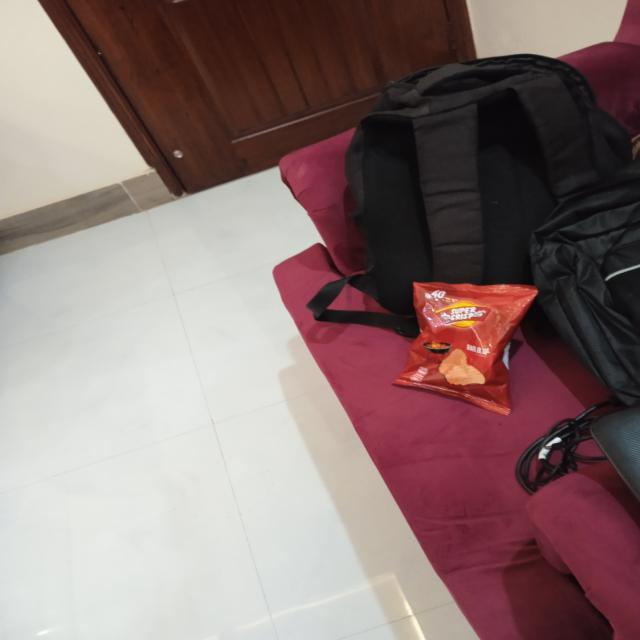Plastic: (398, 283, 534, 414)
